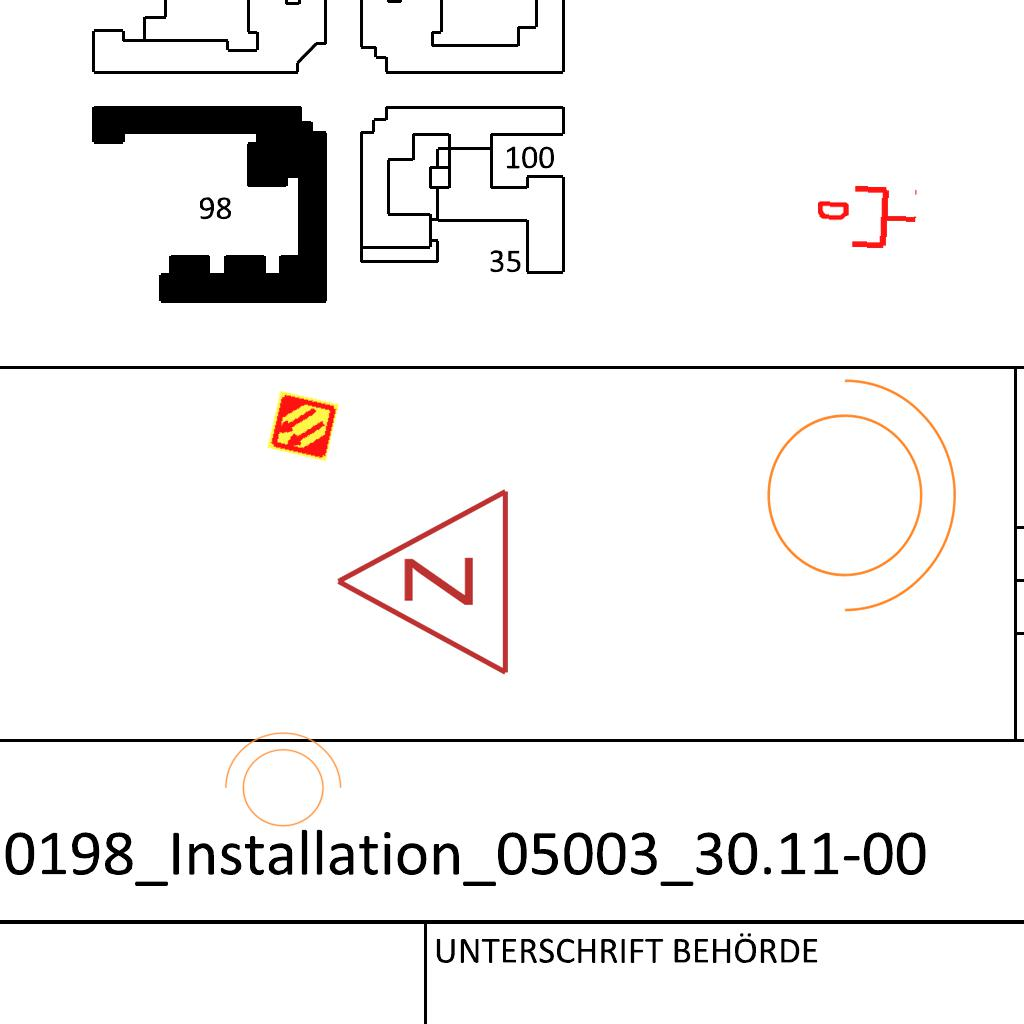ASR_Ansaugrauchmelder: (265, 388, 341, 464)
Datenanschluss_einfach: (815, 179, 920, 255)
Scheinwerfer_fuer_Alarmbeleuchtung: (742, 357, 967, 621), (214, 727, 346, 839)
Zimmersignalleuchte: (323, 486, 523, 682)
